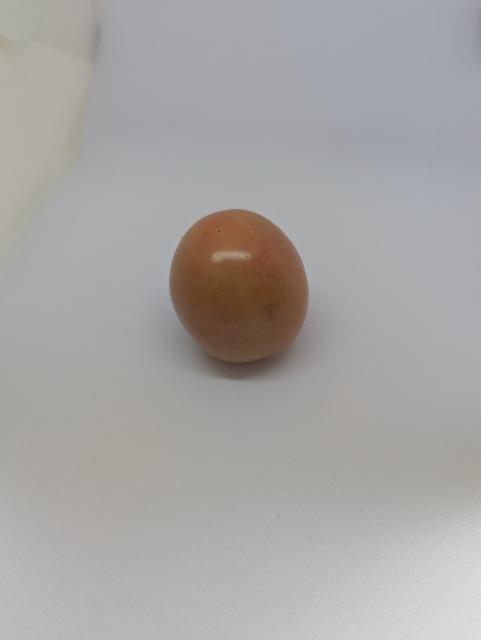turning: (161, 199, 321, 370)
